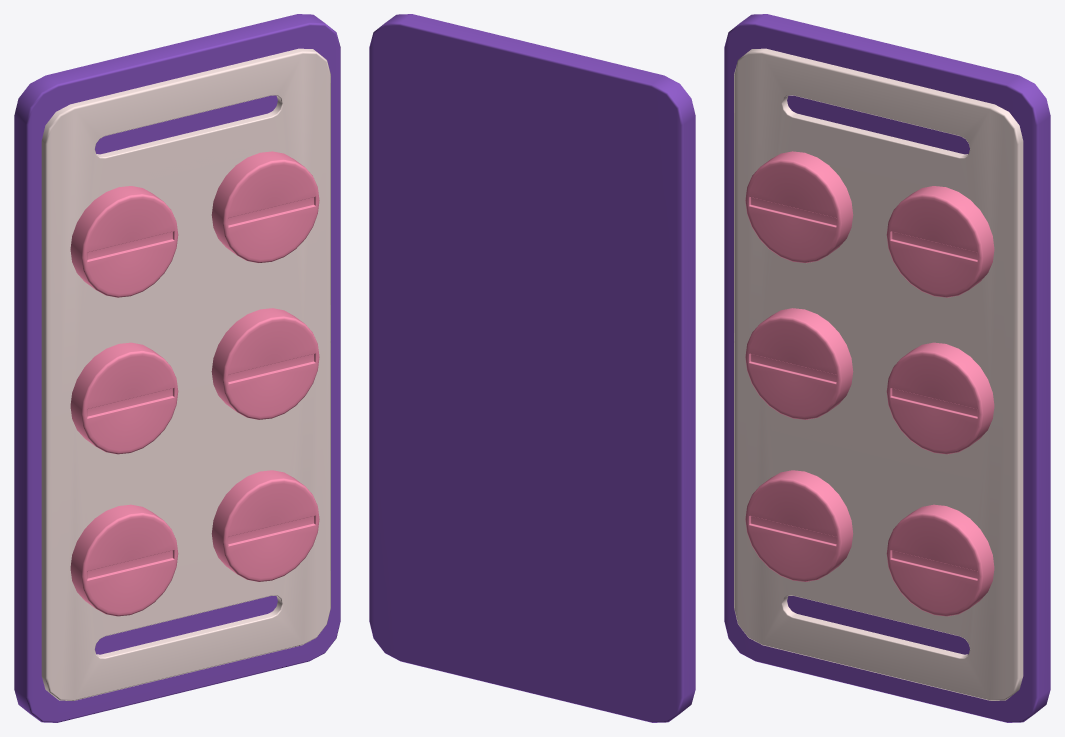
File: Public_3_Pill_Pack_2.glb
The picture shows the model from 3 angles, left to right: view 1: azimuth 30°, elevation 25°; view 2: azimuth 150°, elevation 25°; view 3: azimuth 330°, elevation 25°; orthographic projection.
Visible parts, largest first — view 1: Public_3_Pill_Pack_2; view 2: Public_3_Pill_Pack_2; view 3: Public_3_Pill_Pack_2.
Part boxes in pixels (x1=…): Public_3_Pill_Pack_2: x1=14, y1=14, x2=340, y2=722; Public_3_Pill_Pack_2: x1=369, y1=14, x2=695, y2=722; Public_3_Pill_Pack_2: x1=724, y1=14, x2=1050, y2=722.
Bounding box in the file's own units: 1.66 × 3.21 × 0.2837.
1 material, 1 textured.
